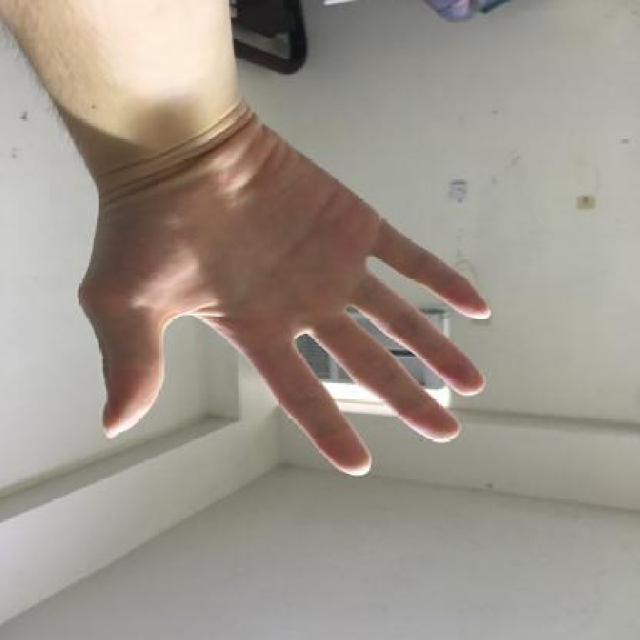bare_hand: (67, 90, 520, 492)
